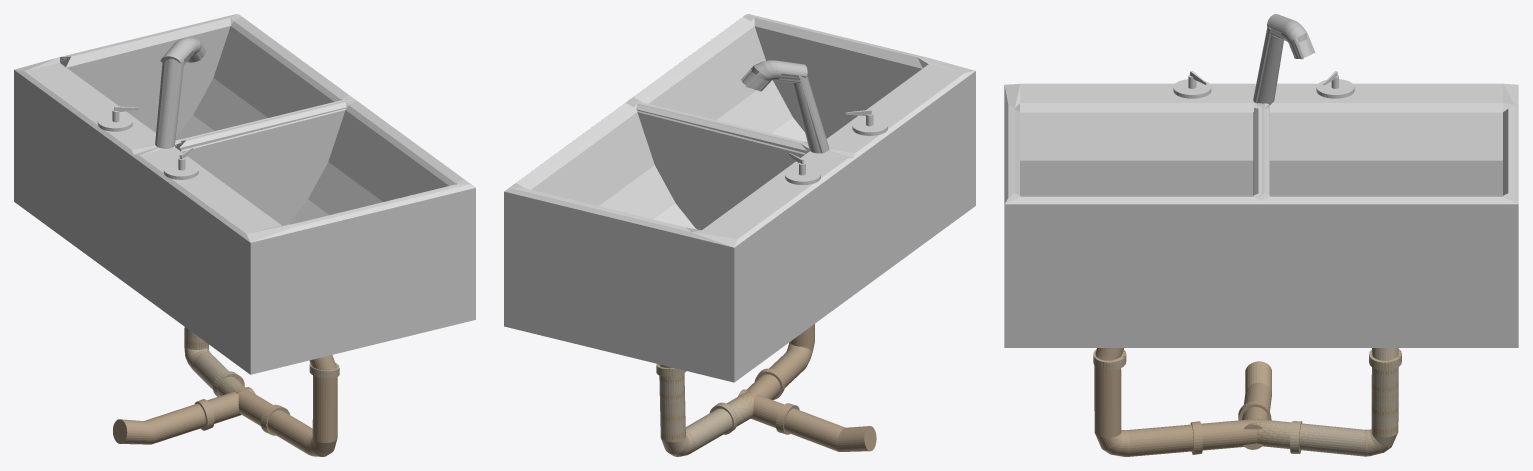
The model's file is KitchenSink.fbx.
The picture shows the model from 3 angles, left to right: view 1: azimuth 30°, elevation 25°; view 2: azimuth 150°, elevation 25°; view 3: azimuth 270°, elevation 25°; orthographic projection. The views are drawn at different scales.
Visible parts, largest first — view 1: Sink, Drain.001, SinkFaucet, Drain, Control.001, Control; view 2: Sink, Drain.001, Drain, SinkFaucet, Control.001, Control; view 3: Sink, Drain.001, Drain, SinkFaucet, Control.001, Control.
Part boxes in pixels (<box>): Sink: <box>14,14,475,374</box>; Drain.001: <box>113,355,337,456</box>; SinkFaucet: <box>155,37,205,148</box>; Drain: <box>184,327,339,396</box>; Control.001: <box>97,113,132,131</box>; Control: <box>163,162,198,179</box>; Sink: <box>504,14,975,382</box>; Drain.001: <box>738,324,876,451</box>; Drain: <box>656,364,757,456</box>; SinkFaucet: <box>740,60,829,153</box>; Control.001: <box>785,166,820,184</box>; Control: <box>852,117,887,135</box>; Sink: <box>1004,83,1518,347</box>; Drain.001: <box>1094,348,1271,456</box>; Drain: <box>1093,348,1401,456</box>; SinkFaucet: <box>1253,14,1315,104</box>; Control.001: <box>1316,79,1354,98</box>; Control: <box>1173,79,1211,98</box>.
Size of the model in its own units: 367 by 553 by 623.
Materials: 3 (2 with a texture image).
